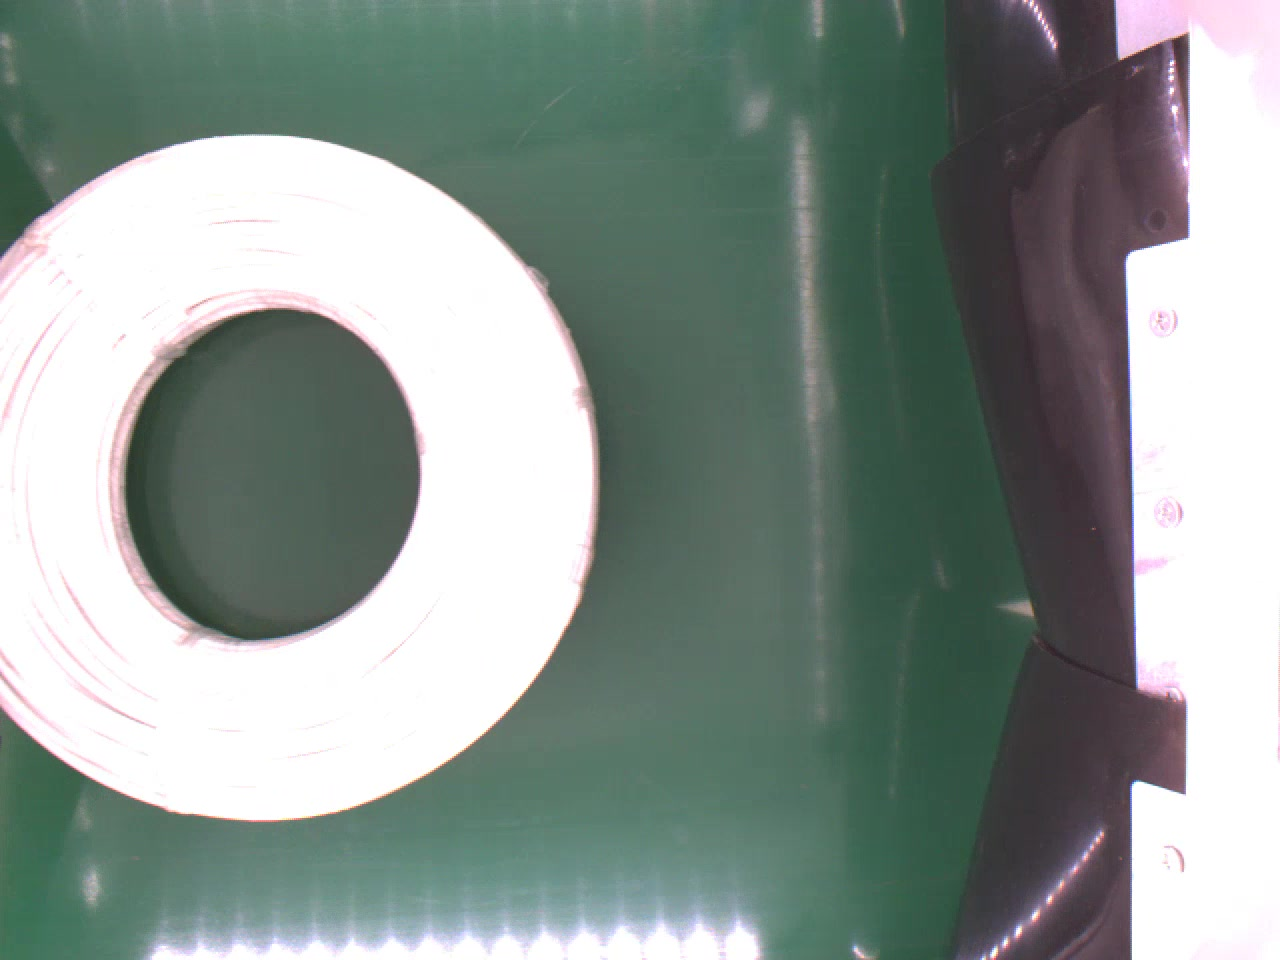white: (0, 130, 606, 824)
